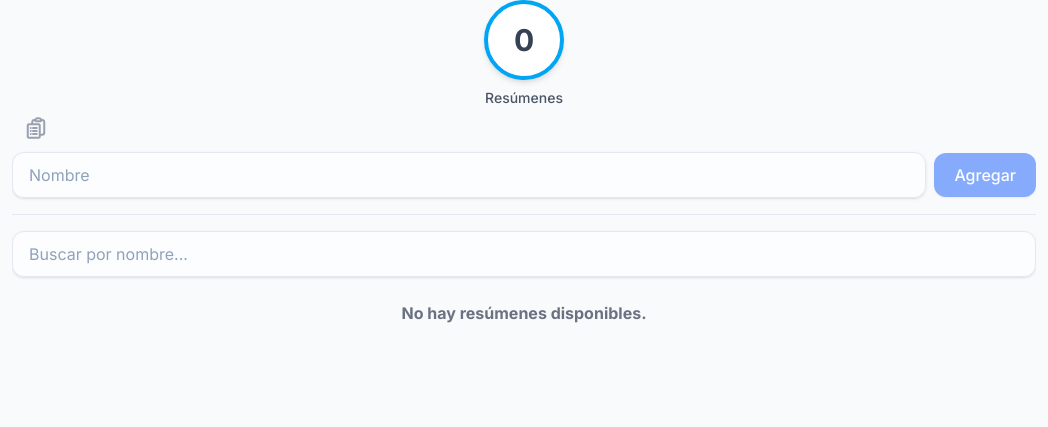
Test case: Summaries.vue › adds a summary via Enter key
In the field named "Nombre del resumen": (469,175) [12,152,926,198], type "Enter Summary"
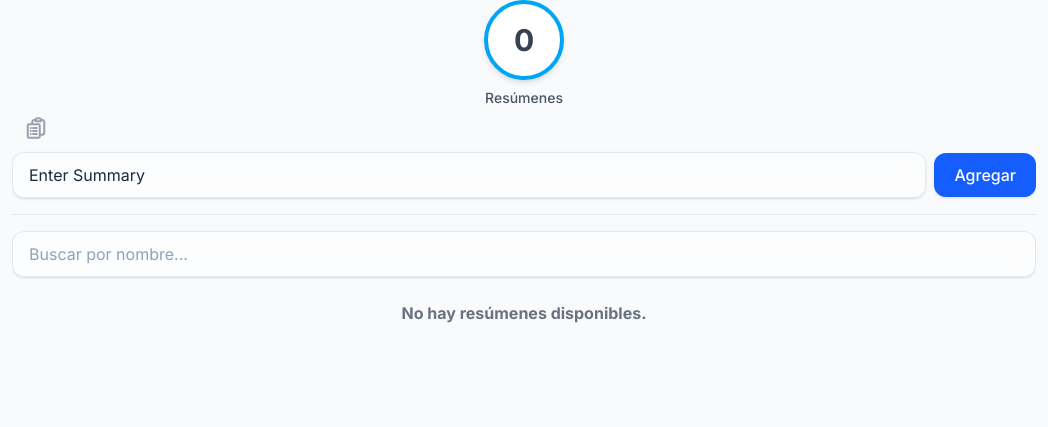
Press Enter in the field named "Nombre del resumen", box [12,152,926,198]
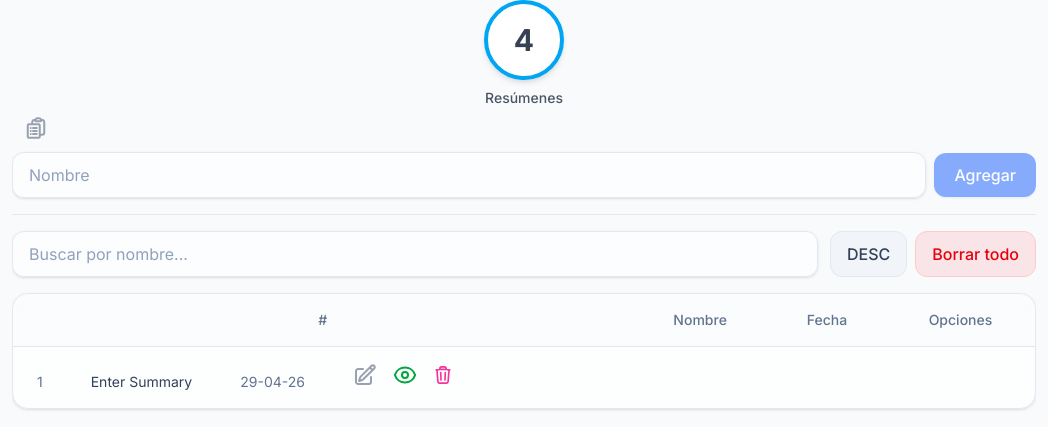
Expected: the cell "Enter Summary" is shown, [67,347,216,408]
